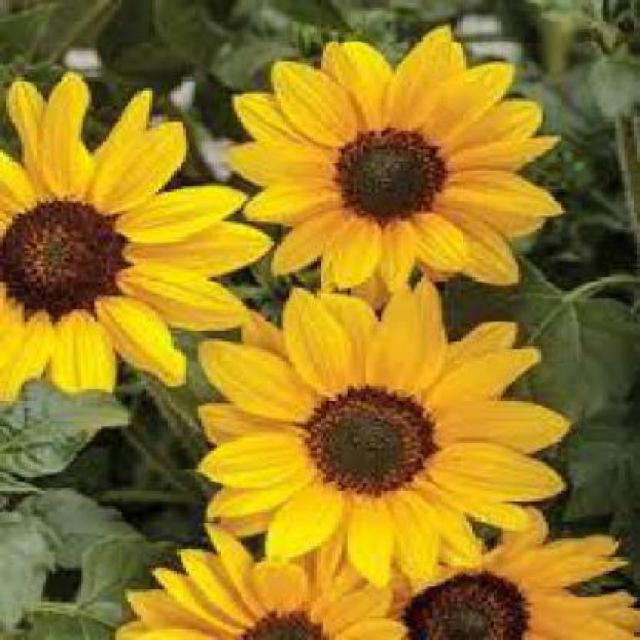flower: (170, 282, 570, 569), (230, 23, 575, 292), (0, 78, 238, 404)
